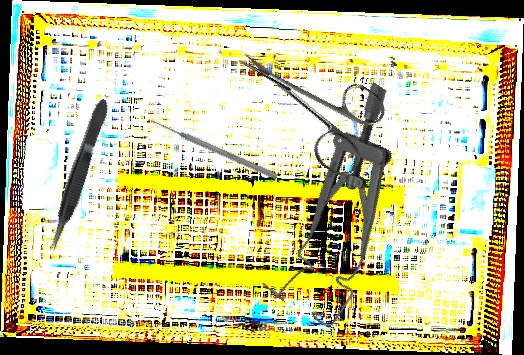Iris Scissors: (215, 21, 396, 182)
Pusher: (149, 116, 279, 181)
Speculum: (244, 80, 457, 332)
Tissue Forceps: (41, 96, 116, 254)
